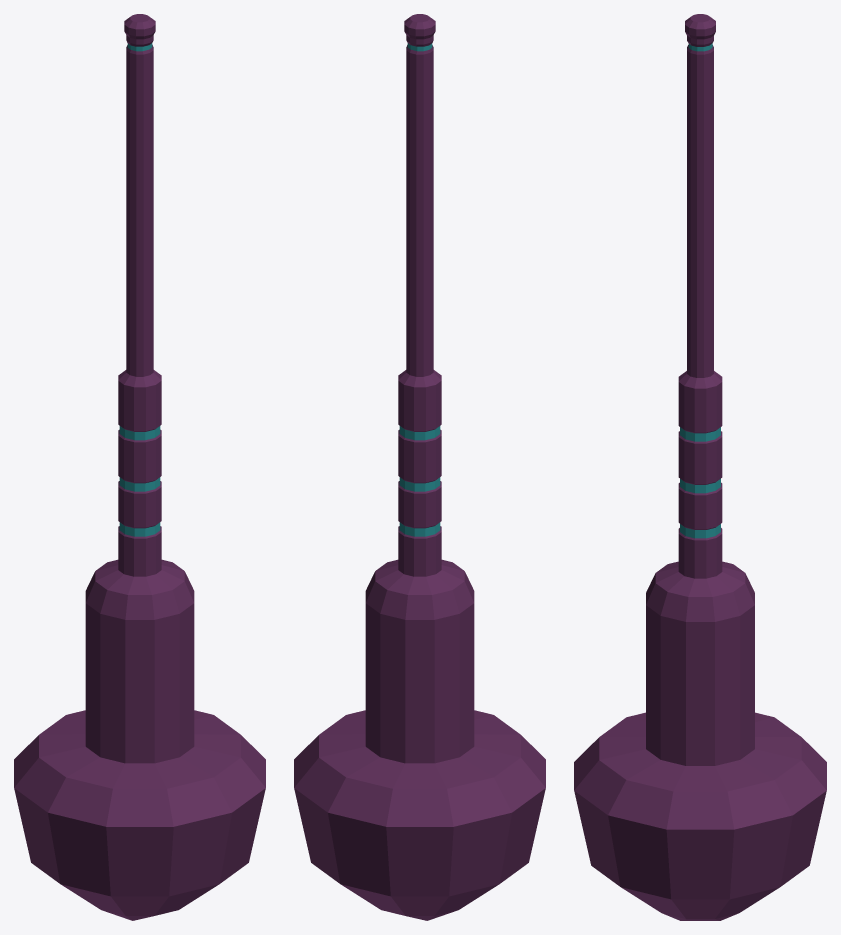
File: Antenna2.fbx
3 views of the same model, side by side, from view 1: azimuth 30°, elevation 25°; view 2: azimuth 150°, elevation 25°; view 3: azimuth 270°, elevation 25° (orthographic).
Parts seen in each view (by area): view 1: Antenna2; view 2: Antenna2; view 3: Antenna2.
Part boxes in pixels (<box>): Antenna2: <box>14,14,265,920</box>; Antenna2: <box>294,14,545,920</box>; Antenna2: <box>574,14,826,920</box>.
Bounding box in the file's own units: 78.93 × 308 × 78.93.
